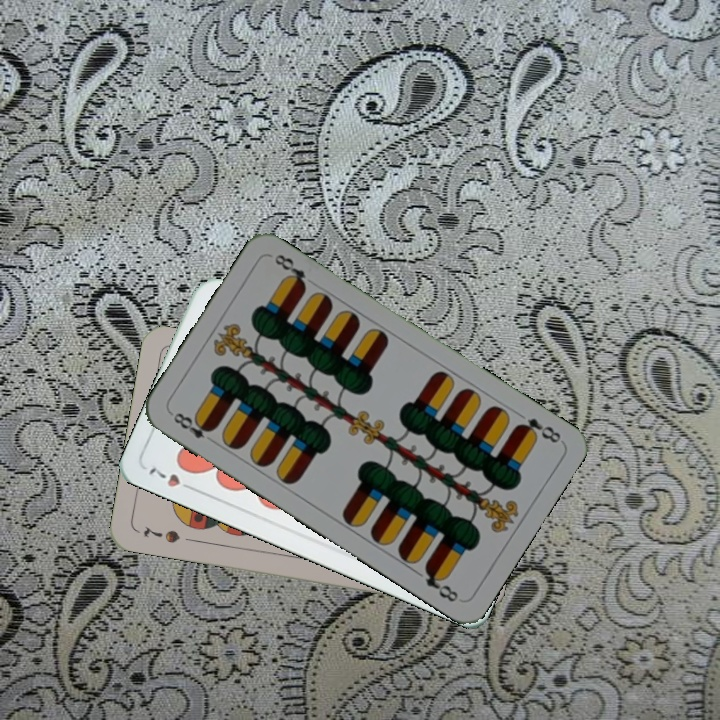E8: (167, 408, 218, 447), (512, 414, 564, 446)
H7: (145, 463, 199, 494)
S7: (139, 522, 183, 546)
